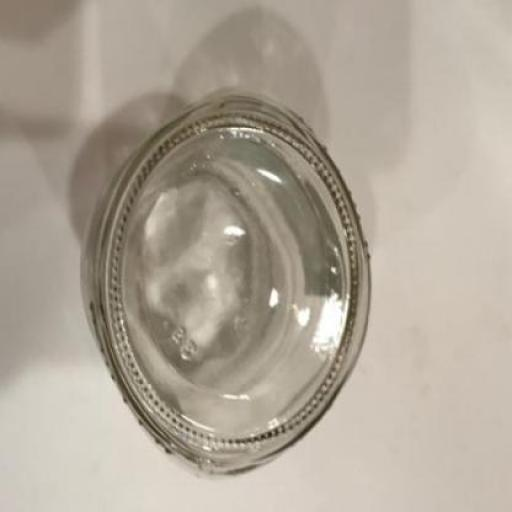glass: (84, 101, 373, 480)
